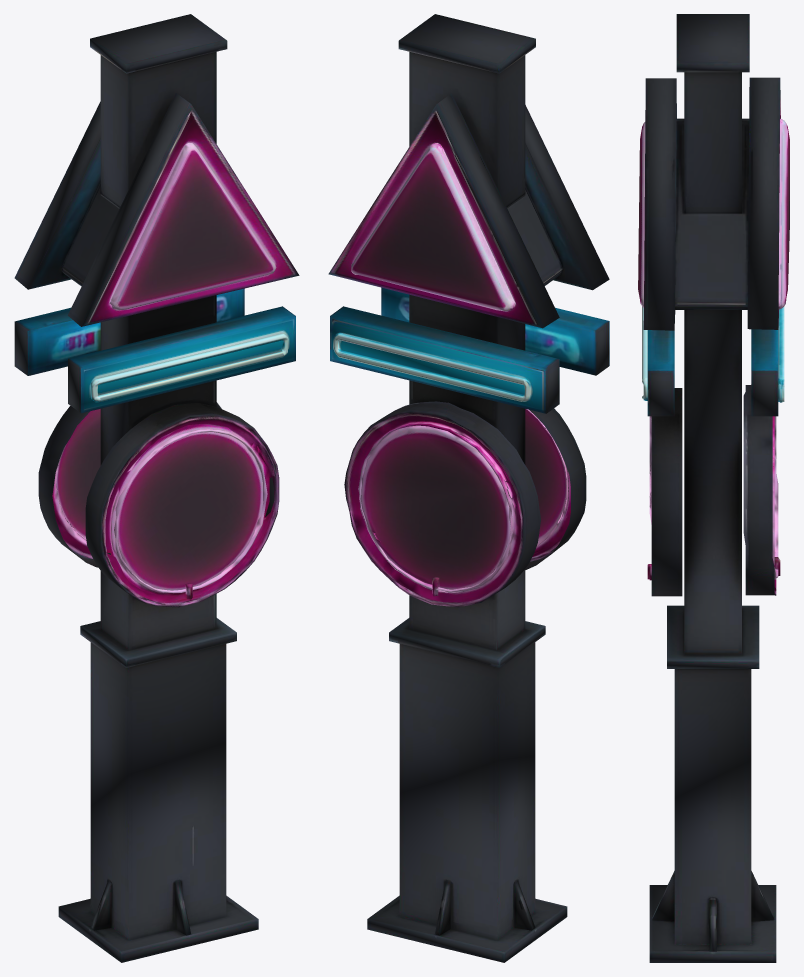
File: original_glb.glb
3 views of the same model, side by side, from view 1: azimuth 30°, elevation 25°; view 2: azimuth 150°, elevation 25°; view 3: azimuth 270°, elevation 25° (orthographic).
Parts seen in each view (by area): view 1: neon pylon; view 2: neon pylon; view 3: neon pylon.
Part boxes in pixels (x1,y1,x2,y2): neon pylon: (14, 14, 299, 962); neon pylon: (328, 14, 609, 962); neon pylon: (638, 14, 789, 962).
Bounding box in the file's own units: 0.2598 × 0.998 × 0.1543.
Materials: 1 (1 with a texture image).
